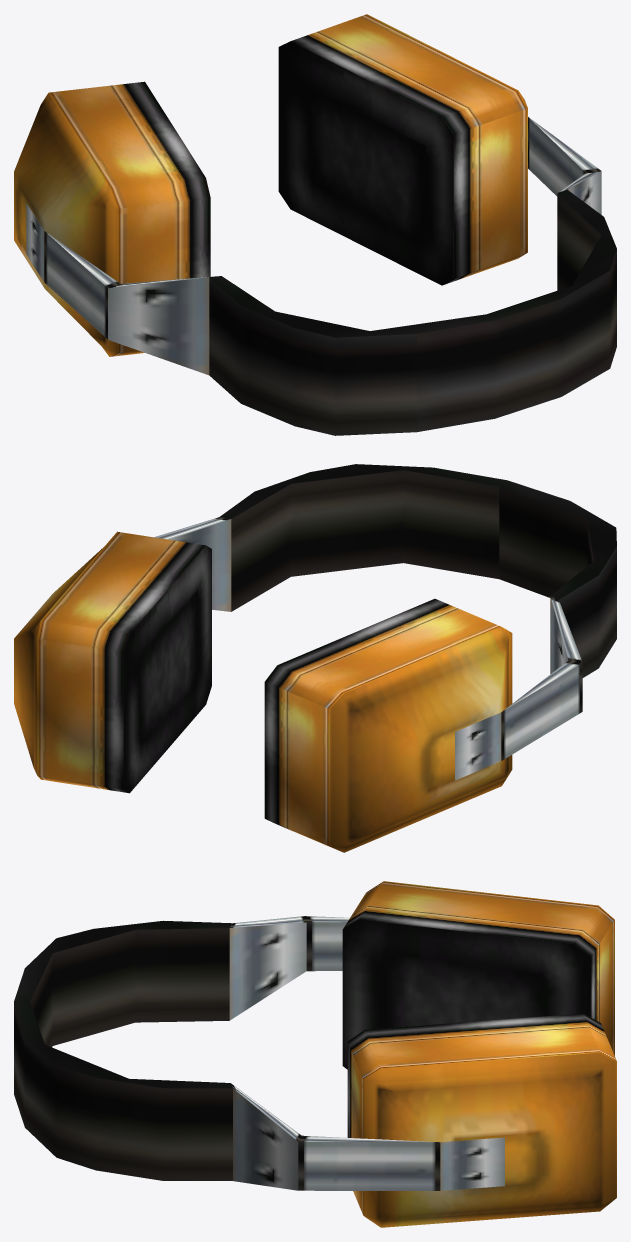
File: ear_protection.fbx
3 views of the same model, one above another, from view 1: azimuth 30°, elevation 25°; view 2: azimuth 150°, elevation 25°; view 3: azimuth 270°, elevation 25° (orthographic). The views are drawn at different scales.
Parts seen in each view (by area): view 1: mesh_0; view 2: mesh_0; view 3: mesh_0.
Boxes of the visible parts, left/top/right/bottom form: mesh_0: left=14, top=14, right=616, bottom=435; mesh_0: left=14, top=464, right=616, bottom=852; mesh_0: left=14, top=881, right=616, bottom=1227.
Bounding box in the file's own units: 17.94 × 5.88 × 20.22.
Materials: 1 (1 with a texture image).
